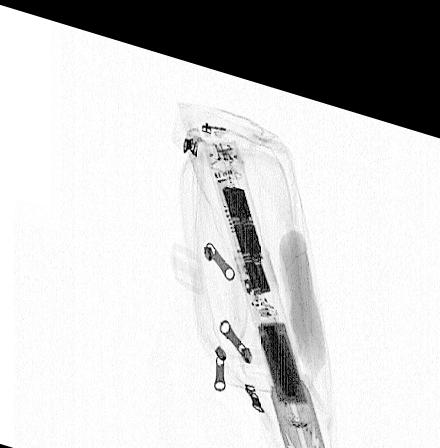Baton: (202, 114, 332, 448)
